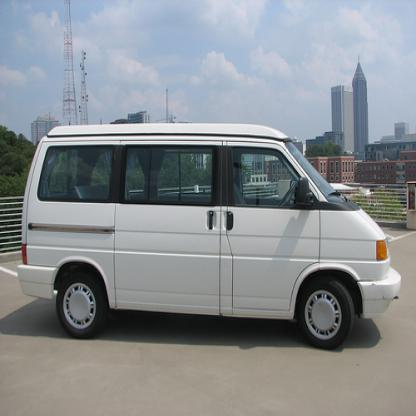car: (18, 120, 403, 359)
